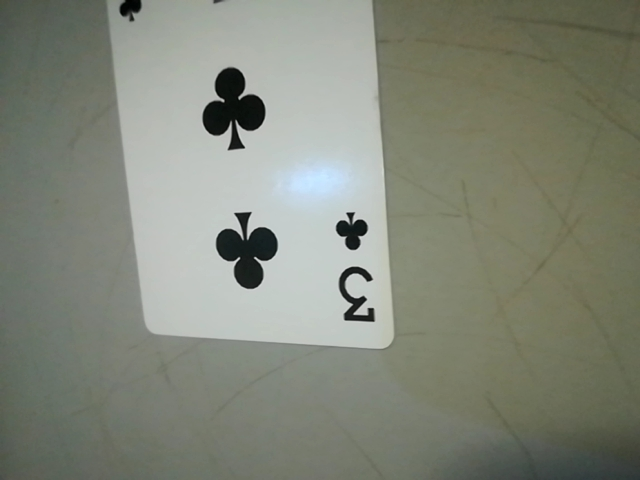mh 3: (326, 201, 387, 338)
